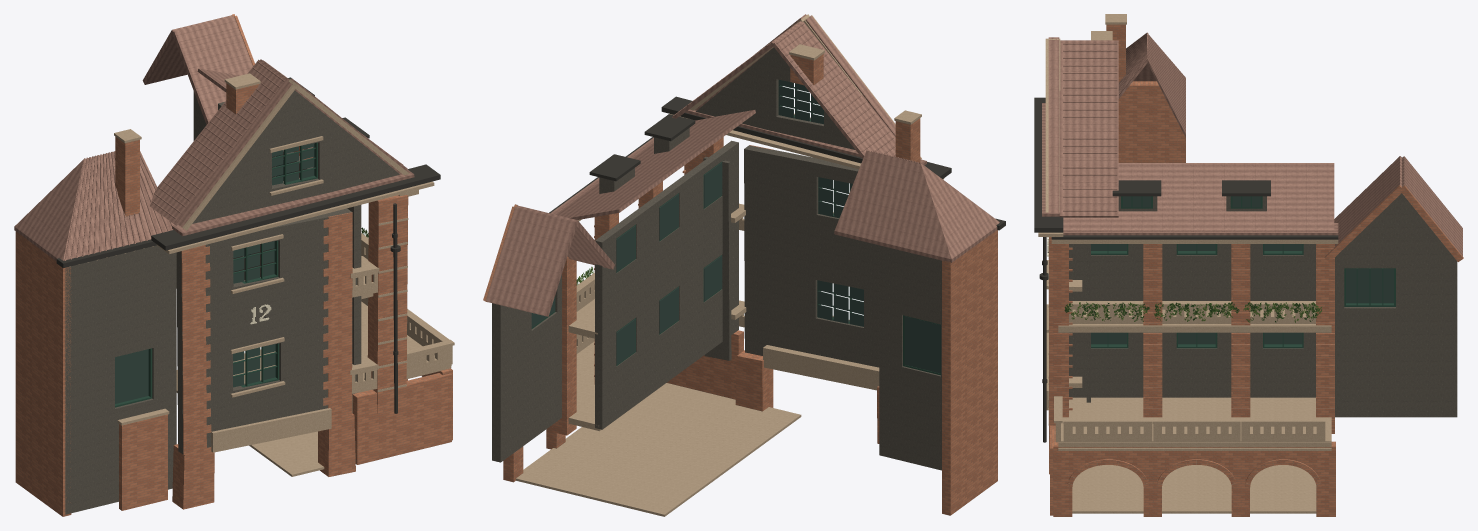
Rendered from changning-xinhuacun-12-numbered-gable-web.glb.
3 views of the same model, side by side, from view 1: azimuth 30°, elevation 25°; view 2: azimuth 150°, elevation 25°; view 3: azimuth 270°, elevation 25° (orthographic).
Parts seen in each view (by area): view 1: 新华村12号题号山墙; view 2: 新华村12号题号山墙; view 3: 新华村12号题号山墙.
Part boxes in pixels (x1,y1,x2,y2): 新华村12号题号山墙: (14,14,454,516); 新华村12号题号山墙: (483,14,1005,516); 新华村12号题号山墙: (1034,14,1463,516).
Size of the model in its own units: 12.43 by 12.73 by 12.22.
11 materials, 4 textured.
